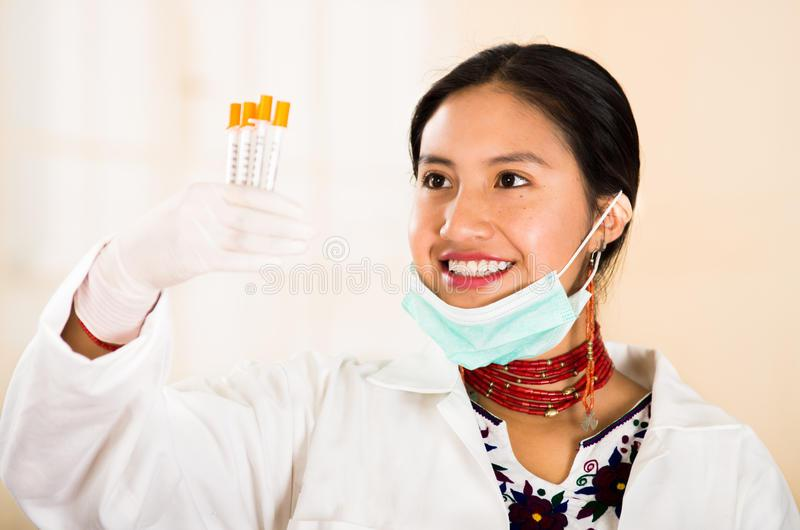mask_weared_incorrect: (408, 141, 556, 350)
